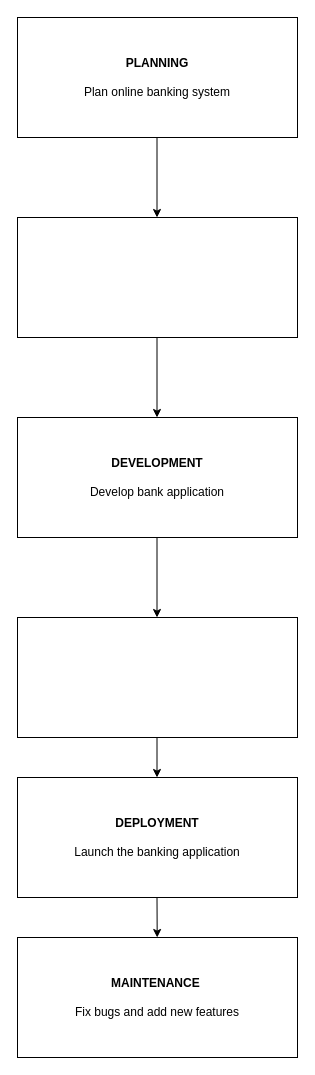
Some shapes in this 315 by 1075 pixel diagram are drawn without their labels. Here are the shapes that lost their labels. From the top down, the centre of each, then its label:
the point at 157,277: REQUIREMENT Identify customer, admin, login, balance, transfer requirements
the point at 157,677: TESTING test login, transaction, balance, security
